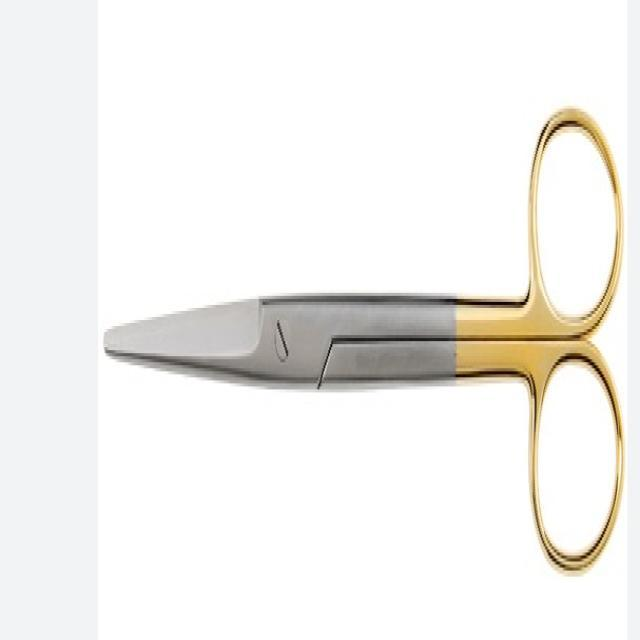Straight Mayo: (101, 101, 626, 576)
